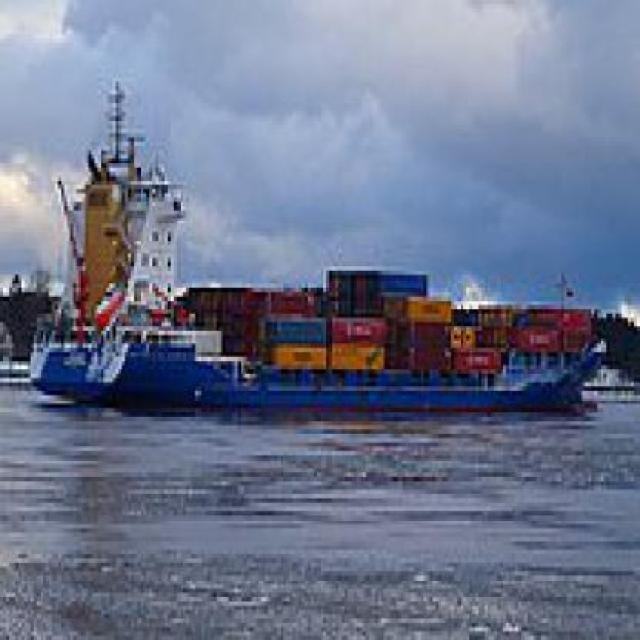container: (31, 254, 614, 426)
